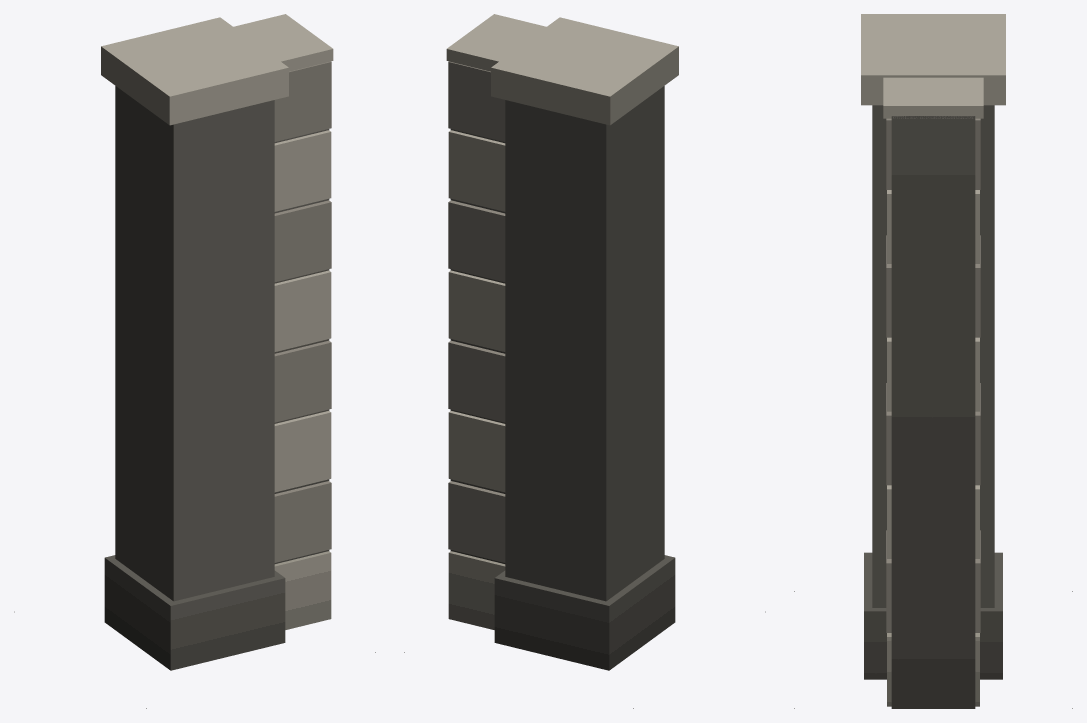
The model's file is wall_stone_end.glb.
3 renders of one model, left to right at view 1: azimuth 30°, elevation 25°; view 2: azimuth 150°, elevation 25°; view 3: azimuth 270°, elevation 25°, orthographic. The views are drawn at different scales.
Bounding box in the file's own units: 1 × 2.4 × 1.
1 material, 1 textured.
